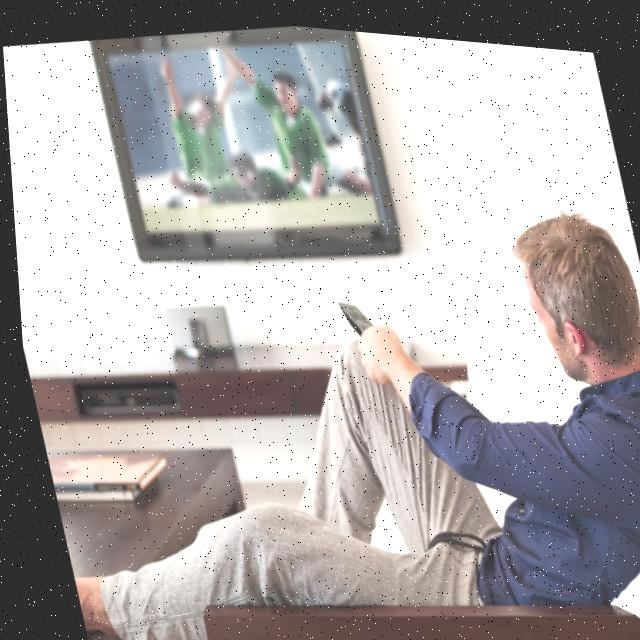tv-person: (58, 4, 640, 639)
